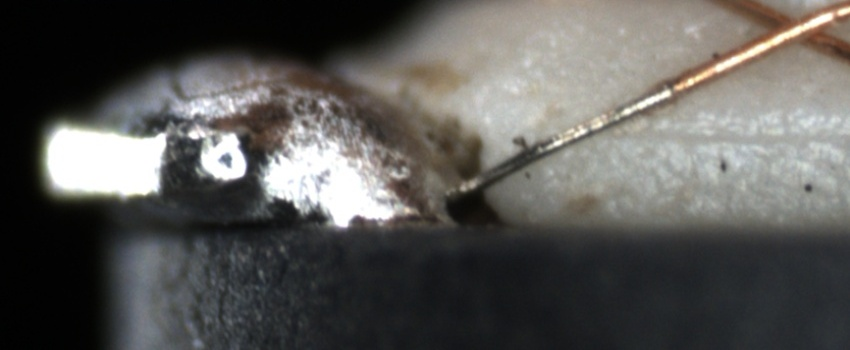CL: (743, 1, 840, 56)
DL: (613, 102, 850, 166)
TS: (458, 82, 675, 194)
